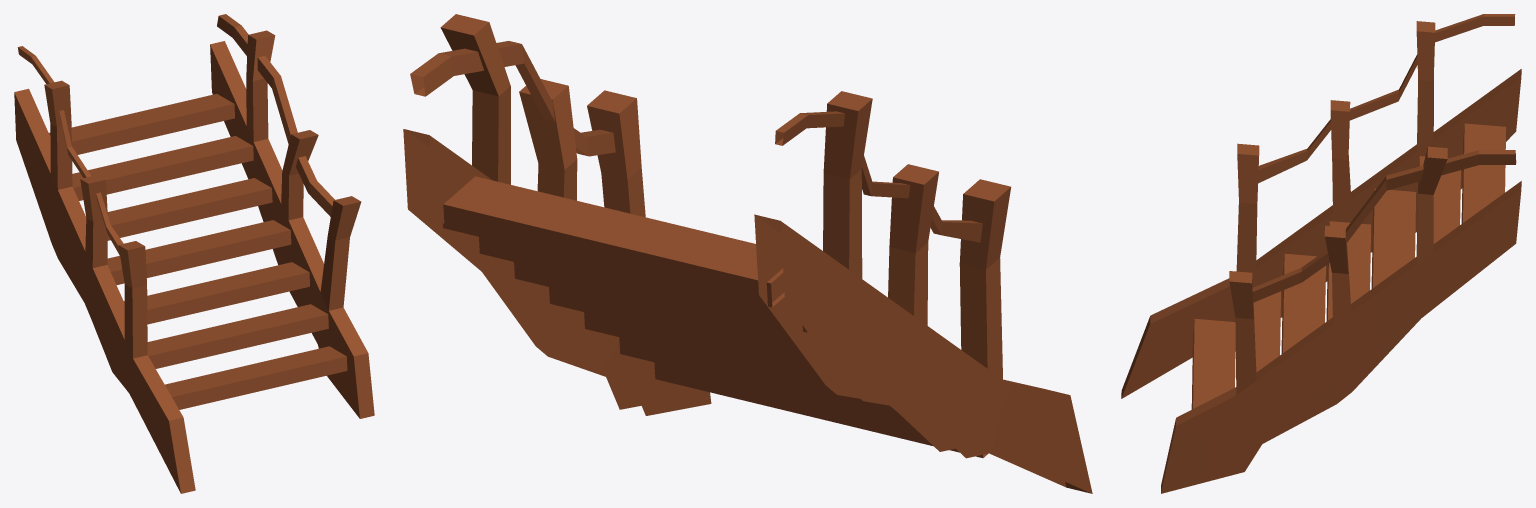
Rendered from muti.FBX.
The picture shows the model from 3 angles, left to right: view 1: azimuth 30°, elevation 25°; view 2: azimuth 150°, elevation 25°; view 3: azimuth 270°, elevation 25°; orthographic projection. The views are drawn at different scales.
Parts seen in each view (by area): view 1: c133; view 2: c133; view 3: c133.
Boxes of the visible parts, x1,y1,x2,y2 form: c133: (14,14,374,493); c133: (403,14,1092,493); c133: (1121,14,1521,493).
Size of the model in its own units: 1.08 by 1.44 by 1.38.
